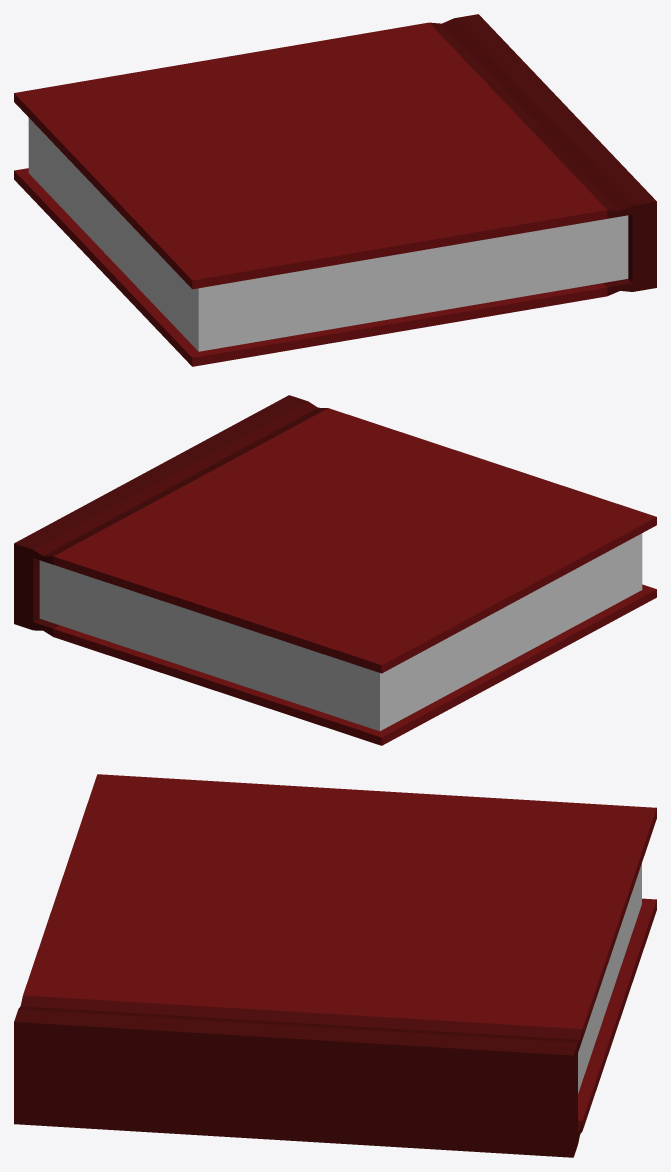
File: Closed Book 2.fbx
3 views of the same model, one above another, from view 1: azimuth 30°, elevation 25°; view 2: azimuth 150°, elevation 25°; view 3: azimuth 270°, elevation 25° (orthographic). The views are drawn at different scales.
Visible parts, largest first — view 1: polySurface285; view 2: polySurface285; view 3: polySurface285.
Boxes of the visible parts, x1,y1,x2,y2 form: polySurface285: (14, 14, 656, 366); polySurface285: (14, 395, 656, 745); polySurface285: (14, 774, 656, 1157).
Size of the model in its own units: 1.89 by 0.3205 by 1.83.
